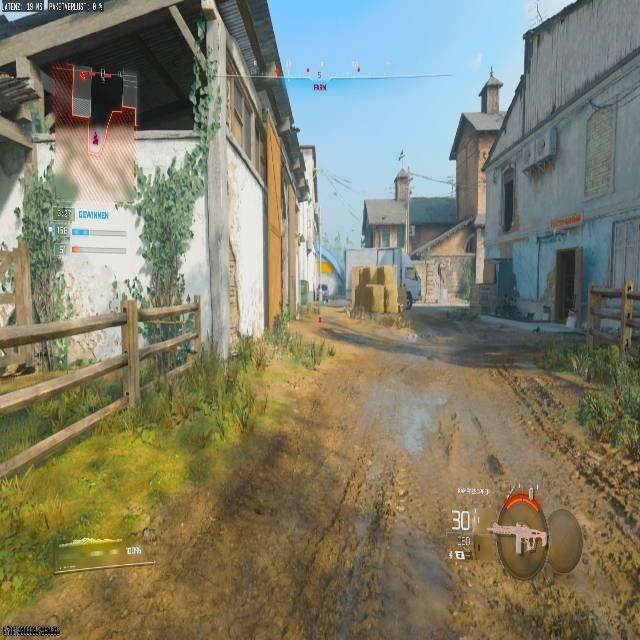player: (403, 285, 414, 311), (318, 283, 328, 303)
